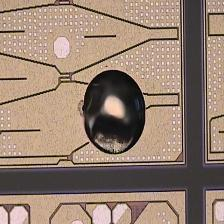PARTICLE: (72, 69, 158, 158)
